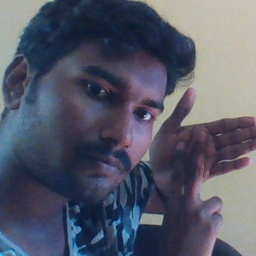N: (148, 87, 256, 239)
